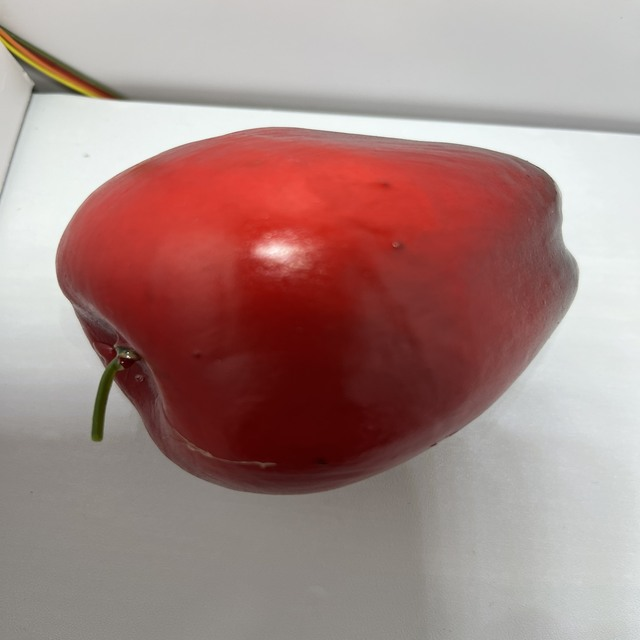Tao: (44, 123, 582, 505)
